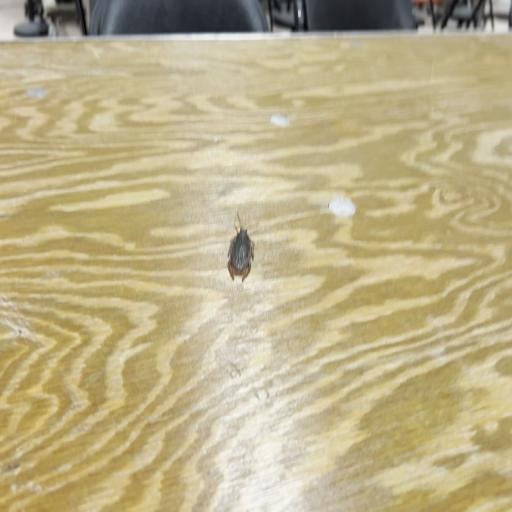cockroach: (226, 212, 254, 284)
